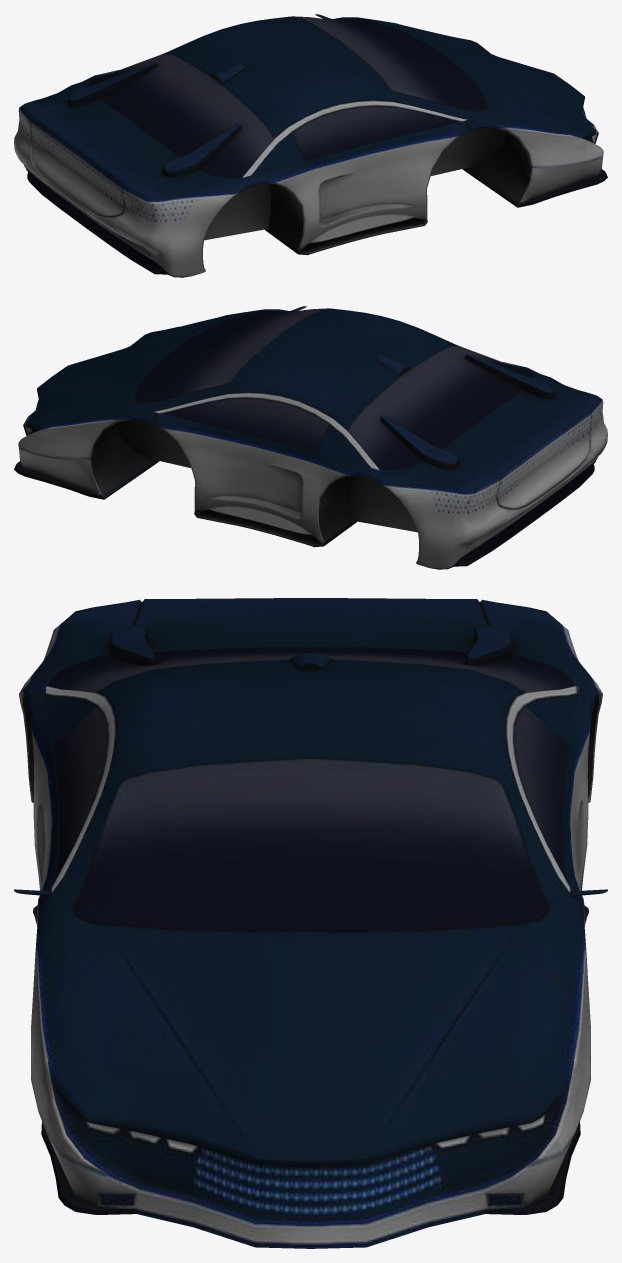
Rendered from f1_car_mercedes_01.dae.
3 views of the same model, one above another, from view 1: azimuth 30°, elevation 25°; view 2: azimuth 150°, elevation 25°; view 3: azimuth 270°, elevation 25° (orthographic). The views are drawn at different scales.
Visible parts, largest first — view 1: car_body; view 2: car_body; view 3: car_body.
Boxes of the visible parts, left/top/right/bottom form: car_body: left=14, top=14, right=607, bottom=277; car_body: left=14, top=306, right=607, bottom=569; car_body: left=14, top=598, right=607, bottom=1248.
Bounding box in the file's own units: 0.3658 × 0.1927 × 0.0974.
Materials: 1 (1 with a texture image).
